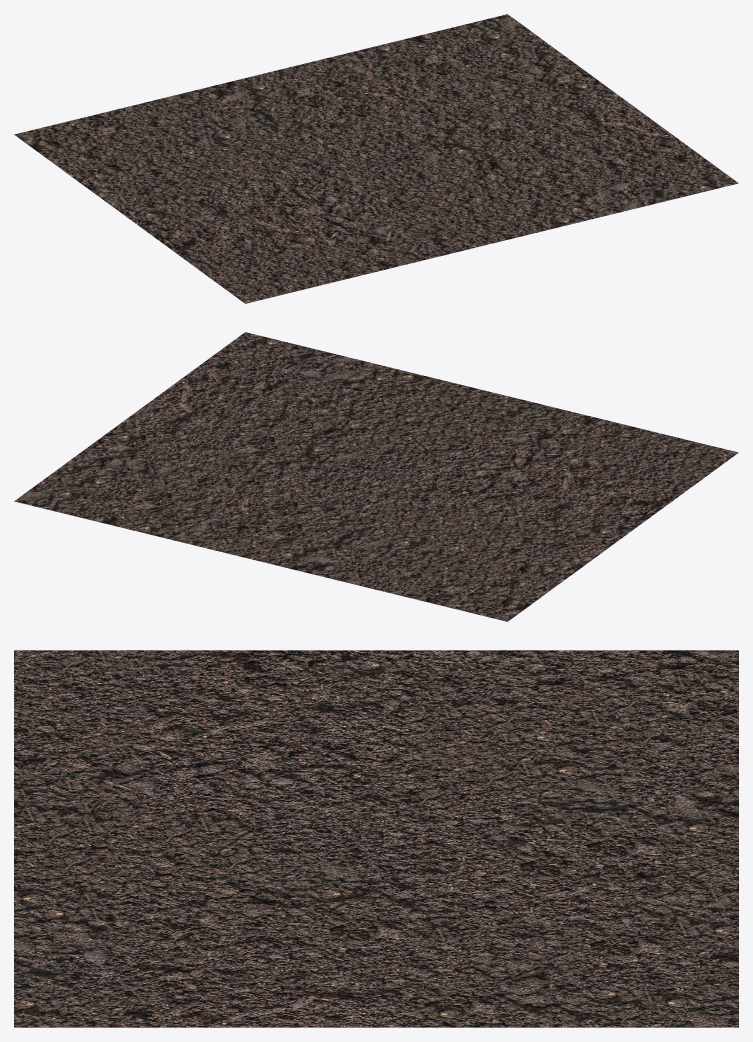
3 views of the same model, one above another, from view 1: azimuth 30°, elevation 25°; view 2: azimuth 150°, elevation 25°; view 3: azimuth 270°, elevation 25° (orthographic). The views are drawn at different scales.
Visible parts, largest first — view 1: bq_pps_Forest-debris_Coniferous_B_spring-summer-autumn.009; view 2: bq_pps_Forest-debris_Coniferous_B_spring-summer-autumn.009; view 3: bq_pps_Forest-debris_Coniferous_B_spring-summer-autumn.009.
Part boxes in pixels (x1=…): bq_pps_Forest-debris_Coniferous_B_spring-summer-autumn.009: x1=14, y1=14, x2=738, y2=303; bq_pps_Forest-debris_Coniferous_B_spring-summer-autumn.009: x1=14, y1=332, x2=738, y2=621; bq_pps_Forest-debris_Coniferous_B_spring-summer-autumn.009: x1=14, y1=650, x2=738, y2=1027.
Bounding box in the file's own units: 97.92 × 0 × 79.46.
1 material, 1 textured.
